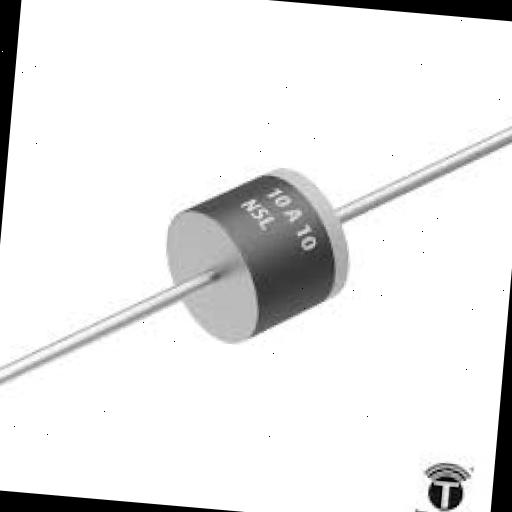DIODE: (99, 124, 499, 448)
